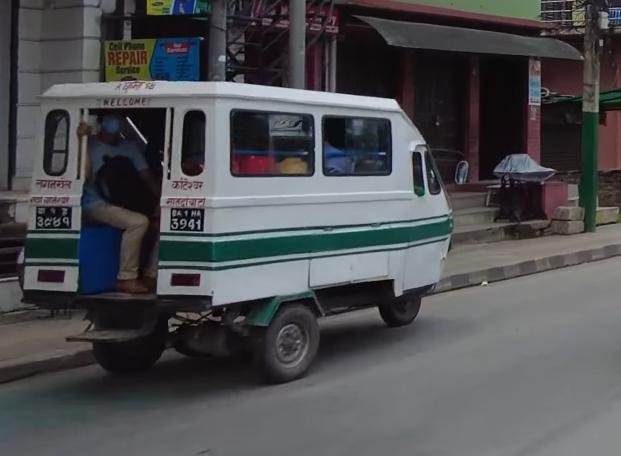tempo: (15, 77, 463, 384)
